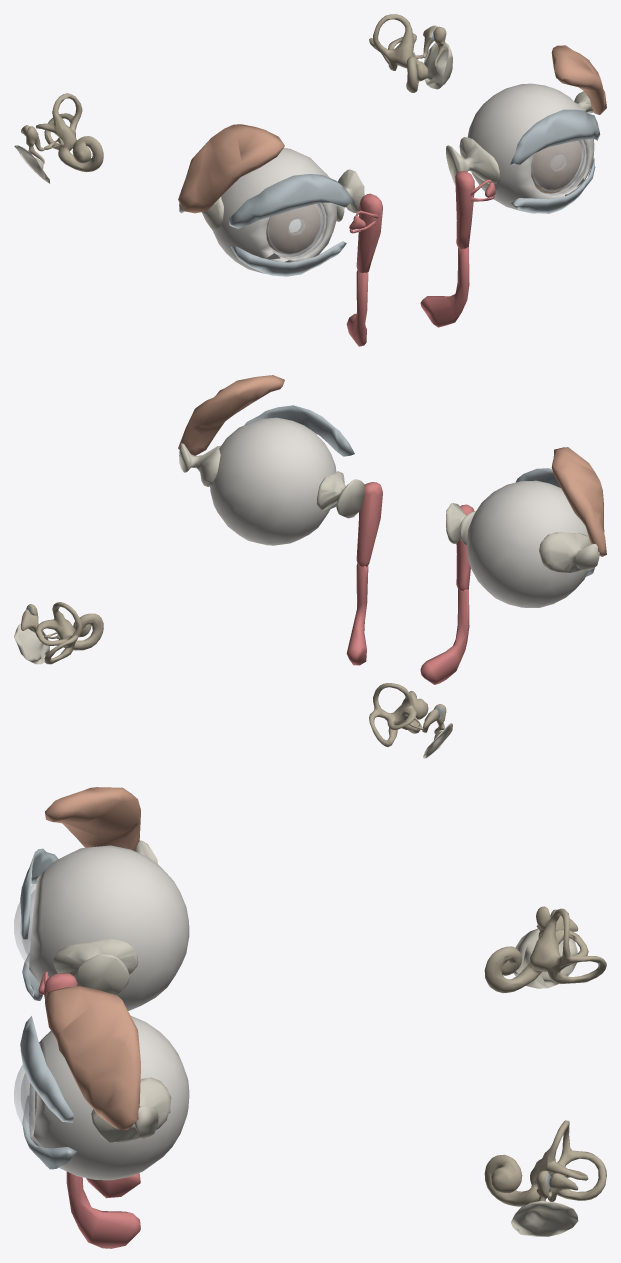
File: adult_male.sensory.LOD2.glb
The picture shows the model from 3 angles, top to bottom: view 1: azimuth 30°, elevation 25°; view 2: azimuth 150°, elevation 25°; view 3: azimuth 270°, elevation 25°; orthographic projection. The views are drawn at different scales.
Parts seen in each view (by area): view 1: ADULT.MALE.SENSORY.SCLERA.L, ADULT.MALE.SENSORY.LACRIMAL_GLAND.R, ADULT.MALE.SENSORY.SCLERA.R, ADULT.MALE.SENSORY.SUPERIOR_TARSUS.R, ADULT.MALE.SENSORY.CORNEA.R, ADULT.MALE.SENSORY.SUPERIOR_TARSUS.L, ADULT.MALE.SENSORY.CORNEA.L, ADULT.MALE.SENSORY.ANTERIOR_CHAMBER_OF_EYEBALL.R, ADULT.MALE.SENSORY.LACRIMAL_GLAND.L, ADULT.MALE.SENSORY.IRIS.R, ADULT.MALE.SENSORY.ANTERIOR_CHAMBER_OF_EYEBALL.L, ADULT.MALE.SENSORY.SUSPENSORY_LIGAMENT_OF_EYEBALL.L (+13 smaller); view 2: ADULT.MALE.SENSORY.SCLERA.L, ADULT.MALE.SENSORY.SCLERA.R, ADULT.MALE.SENSORY.LACRIMAL_GLAND.L, ADULT.MALE.SENSORY.LACRIMAL_GLAND.R, ADULT.MALE.SENSORY.SUSPENSORY_LIGAMENT_OF_EYEBALL.R, ADULT.MALE.SENSORY.SUSPENSORY_LIGAMENT_OF_EYEBALL.L, ADULT.MALE.SENSORY.NASOLACRIMAL_DUCT.R, ADULT.MALE.SENSORY.SUPERIOR_TARSUS.L, ADULT.MALE.SENSORY.LACRIMAL_SAC.L, ADULT.MALE.SENSORY.VESTIBULE.L, ADULT.MALE.SENSORY.VESTIBULE.R, ADULT.MALE.SENSORY.NASOLACRIMAL_DUCT.L (+3 smaller); view 3: ADULT.MALE.SENSORY.SCLERA.R, ADULT.MALE.SENSORY.SCLERA.L, ADULT.MALE.SENSORY.LACRIMAL_GLAND.L, ADULT.MALE.SENSORY.LACRIMAL_GLAND.R, ADULT.MALE.SENSORY.SUSPENSORY_LIGAMENT_OF_EYEBALL.R, ADULT.MALE.SENSORY.NASOLACRIMAL_DUCT.L, ADULT.MALE.SENSORY.VESTIBULE.R, ADULT.MALE.SENSORY.SUSPENSORY_LIGAMENT_OF_EYEBALL.L, ADULT.MALE.SENSORY.VESTIBULE.L, ADULT.MALE.SENSORY.SUPERIOR_TARSUS.L, ADULT.MALE.SENSORY.TYMPANIC_MEMBRANE.L, ADULT.MALE.SENSORY.COCHLEA.L (+7 smaller).
Boxes of the visible parts, bbox=[...] form: ADULT.MALE.SENSORY.SCLERA.L: bbox=[467, 83, 594, 209]; ADULT.MALE.SENSORY.LACRIMAL_GLAND.R: bbox=[178, 124, 284, 213]; ADULT.MALE.SENSORY.SCLERA.R: bbox=[212, 148, 336, 273]; ADULT.MALE.SENSORY.SUPERIOR_TARSUS.R: bbox=[228, 174, 354, 228]; ADULT.MALE.SENSORY.CORNEA.R: bbox=[266, 203, 327, 259]; ADULT.MALE.SENSORY.SUPERIOR_TARSUS.L: bbox=[510, 109, 600, 164]; ADULT.MALE.SENSORY.CORNEA.L: bbox=[531, 140, 587, 195]; ADULT.MALE.SENSORY.ANTERIOR_CHAMBER_OF_EYEBALL.R: bbox=[268, 204, 323, 255]; ADULT.MALE.SENSORY.LACRIMAL_GLAND.L: bbox=[551, 45, 606, 114]; ADULT.MALE.SENSORY.IRIS.R: bbox=[266, 204, 320, 254]; ADULT.MALE.SENSORY.ANTERIOR_CHAMBER_OF_EYEBALL.L: bbox=[532, 141, 583, 191]; ADULT.MALE.SENSORY.SUSPENSORY_LIGAMENT_OF_EYEBALL.L: bbox=[446, 91, 593, 185]; ADULT.MALE.SENSORY.SCLERA.L: bbox=[210, 417, 336, 545]; ADULT.MALE.SENSORY.SCLERA.R: bbox=[466, 480, 588, 607]; ADULT.MALE.SENSORY.LACRIMAL_GLAND.L: bbox=[178, 375, 284, 455]; ADULT.MALE.SENSORY.LACRIMAL_GLAND.R: bbox=[551, 447, 606, 556]; ADULT.MALE.SENSORY.SUSPENSORY_LIGAMENT_OF_EYEBALL.R: bbox=[446, 503, 599, 573]; ADULT.MALE.SENSORY.SUSPENSORY_LIGAMENT_OF_EYEBALL.L: bbox=[179, 443, 364, 518]; ADULT.MALE.SENSORY.NASOLACRIMAL_DUCT.R: bbox=[420, 589, 469, 684]; ADULT.MALE.SENSORY.SUPERIOR_TARSUS.L: bbox=[244, 405, 354, 456]; ADULT.MALE.SENSORY.LACRIMAL_SAC.L: bbox=[356, 482, 382, 566]; ADULT.MALE.SENSORY.VESTIBULE.L: bbox=[35, 602, 82, 664]; ADULT.MALE.SENSORY.VESTIBULE.R: bbox=[369, 683, 416, 746]; ADULT.MALE.SENSORY.NASOLACRIMAL_DUCT.L: bbox=[346, 563, 368, 665]; ADULT.MALE.SENSORY.SCLERA.R: bbox=[29, 845, 189, 1010]; ADULT.MALE.SENSORY.SCLERA.L: bbox=[29, 1016, 189, 1180]; ADULT.MALE.SENSORY.LACRIMAL_GLAND.L: bbox=[45, 986, 140, 1129]; ADULT.MALE.SENSORY.LACRIMAL_GLAND.R: bbox=[45, 787, 140, 851]; ADULT.MALE.SENSORY.SUSPENSORY_LIGAMENT_OF_EYEBALL.R: bbox=[53, 840, 157, 995]; ADULT.MALE.SENSORY.NASOLACRIMAL_DUCT.L: bbox=[66, 1171, 140, 1248]; ADULT.MALE.SENSORY.VESTIBULE.R: bbox=[530, 908, 606, 983]; ADULT.MALE.SENSORY.SUSPENSORY_LIGAMENT_OF_EYEBALL.L: bbox=[91, 1077, 171, 1142]; ADULT.MALE.SENSORY.VESTIBULE.L: bbox=[530, 1120, 606, 1200]; ADULT.MALE.SENSORY.SUPERIOR_TARSUS.L: bbox=[20, 1016, 73, 1122]; ADULT.MALE.SENSORY.TYMPANIC_MEMBRANE.L: bbox=[511, 1201, 578, 1236]; ADULT.MALE.SENSORY.COCHLEA.L: bbox=[484, 1154, 539, 1206].
Bounding box in the file's own units: 0.1013 × 0.0569 × 0.0923.
